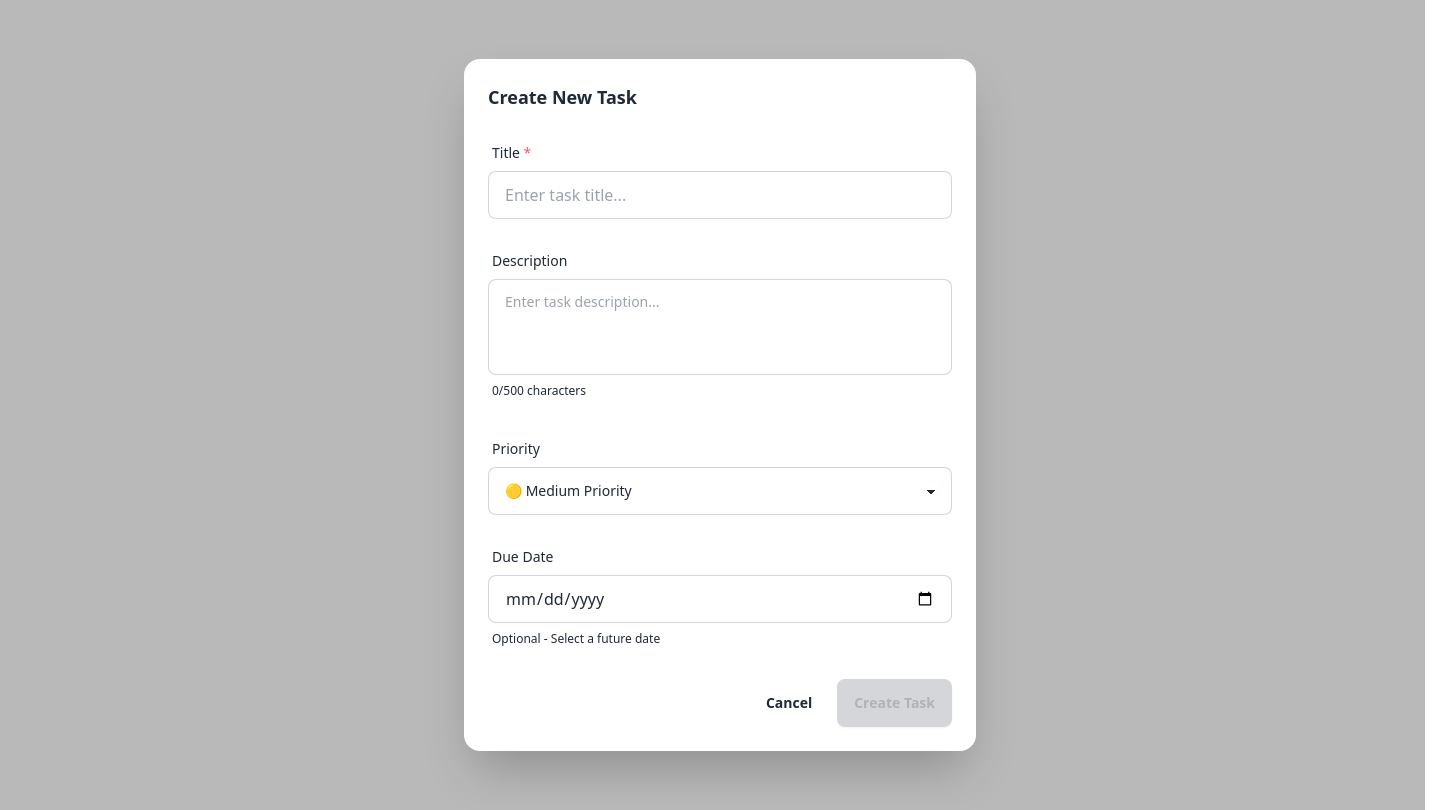
Test case: TaskCreationModal › has character counter for description
The width and height of the screenshot is (1440, 810).
Expected: the heading "Create New Task" is shown, [488,85,637,109]
Expected: the text "0/500 characters" is shown, [492,383,586,399]
Type and check counter updates
Type "Test description" into the text box labelled "Description" at (720, 327), box [488,279,952,375]
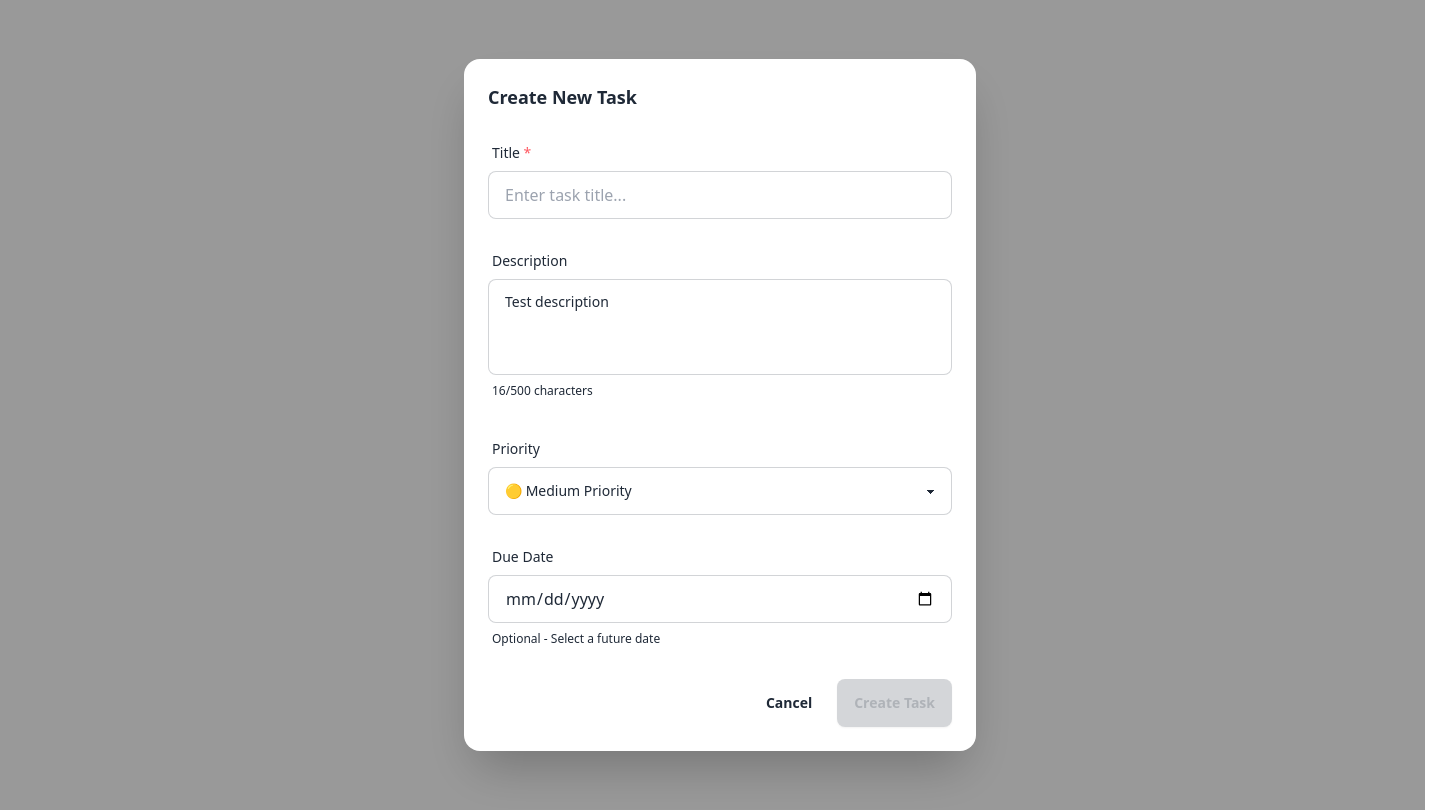
Result: the text "16/500 characters" is shown at [492,383,593,399]
